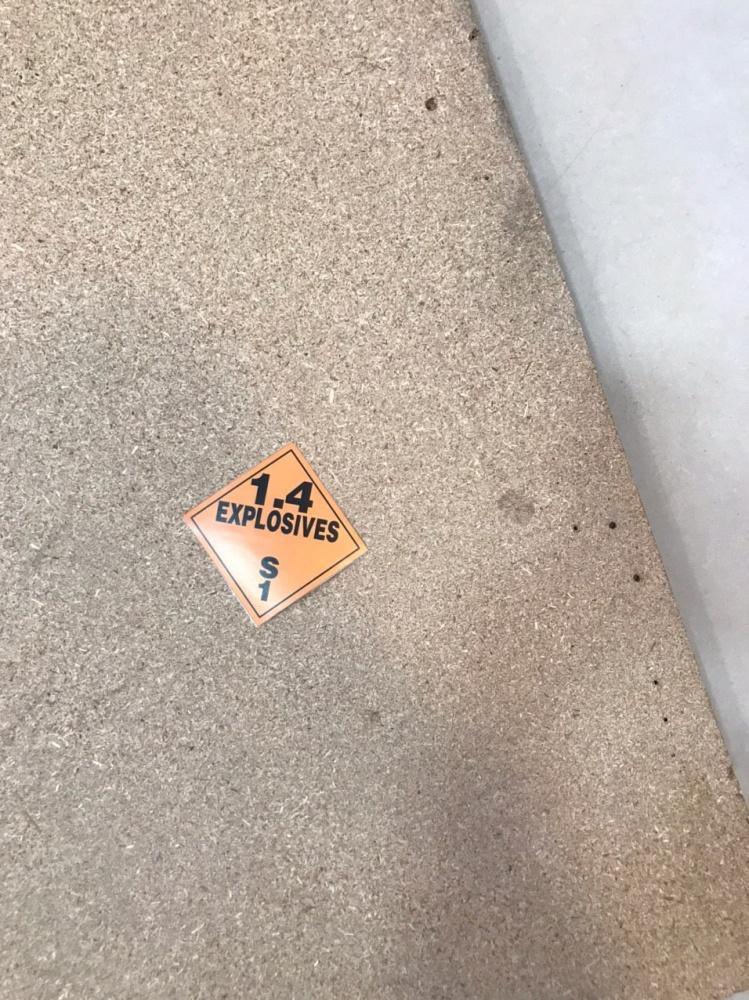explosive: (193, 449, 355, 619)
